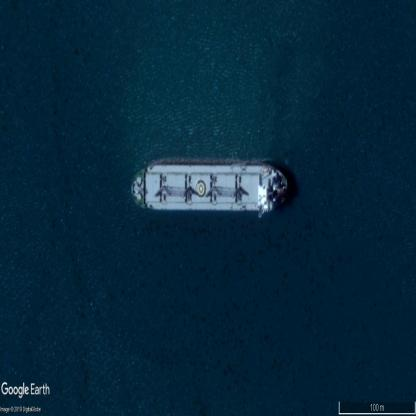ship: (132, 158, 288, 215)
